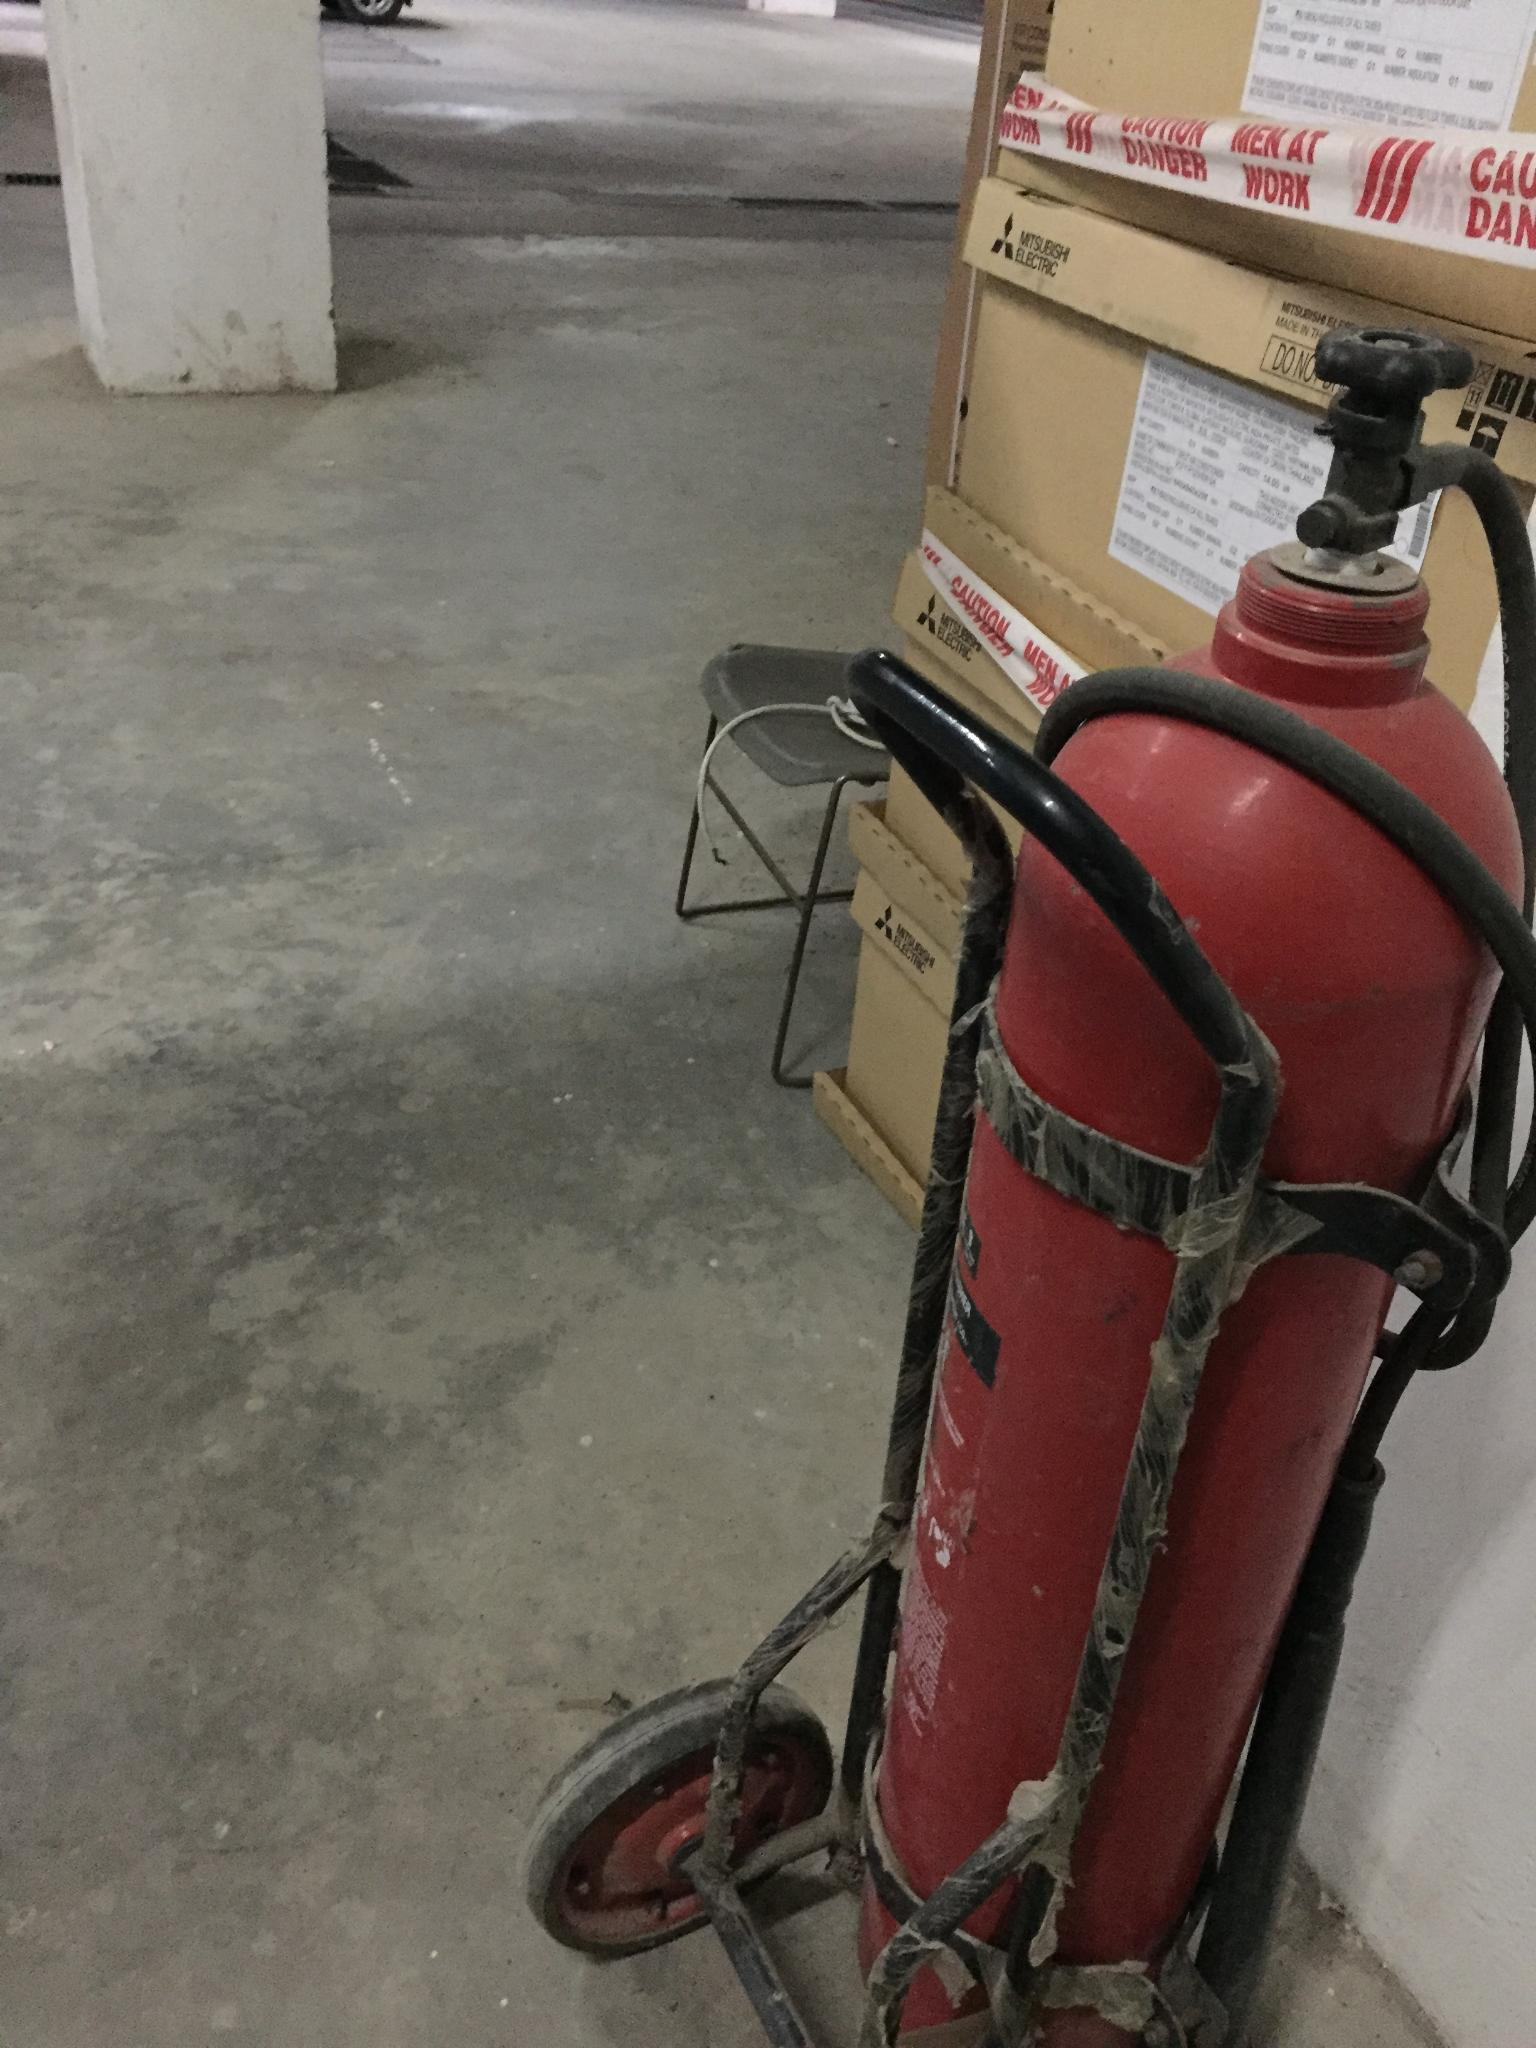chair: (676, 585, 970, 1118)
